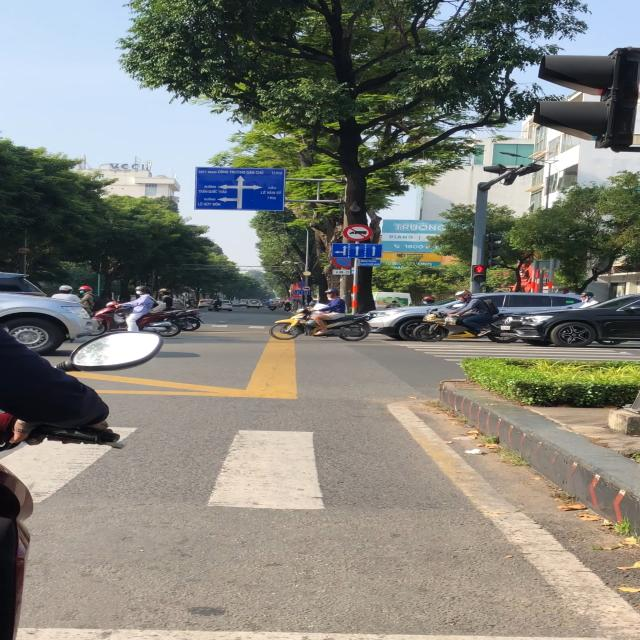Bien bao cam xe so-mi ro-mooc: (340, 223, 376, 242)
